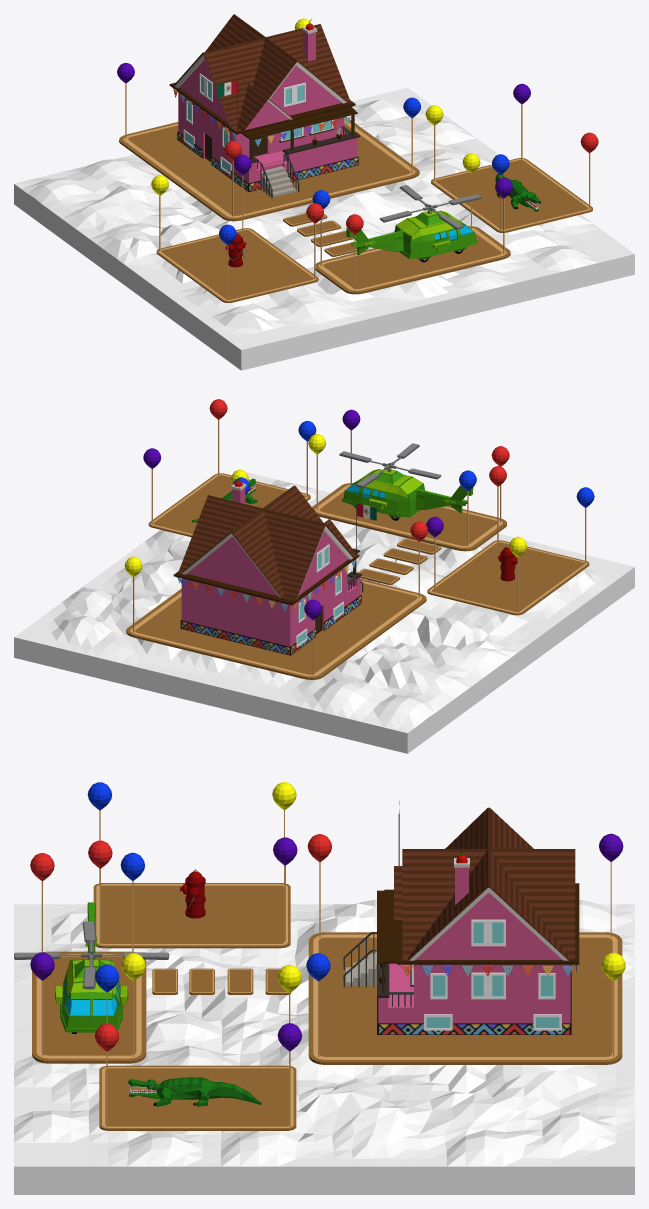
The picture shows the model from 3 angles, top to bottom: view 1: azimuth 30°, elevation 25°; view 2: azimuth 150°, elevation 25°; view 3: azimuth 270°, elevation 25°; orthographic projection. The views are drawn at different scales.
Parts seen in each view (by area): view 1: Cube.013, Cube.1005, VEHICLES_HELICOPTER, ANIMAL_COCODRILO; view 2: Cube.013, Cube.1005, VEHICLES_HELICOPTER, OBJRANDOM_FIRE_HYDRANT; view 3: Cube.013, Cube.1005, VEHICLES_HELICOPTER, ANIMAL_COCODRILO, OBJRANDOM_FIRE_HYDRANT.
Part boxes in pixels (x1,y1,x2,y2): Cube.013: [14, 18, 634, 370]; Cube.1005: [169, 14, 360, 198]; VEHICLES_HELICOPTER: [346, 185, 481, 262]; ANIMAL_COCODRILO: [495, 173, 540, 211]; Cube.013: [14, 399, 634, 753]; Cube.1005: [173, 476, 376, 655]; VEHICLES_HELICOPTER: [339, 443, 473, 520]; OBJRANDOM_FIRE_HYDRANT: [498, 545, 517, 581]; Cube.013: [14, 782, 634, 1194]; Cube.1005: [343, 801, 579, 1034]; VEHICLES_HELICOPTER: [14, 902, 169, 1033]; ANIMAL_COCODRILO: [128, 1077, 261, 1106]; OBJRANDOM_FIRE_HYDRANT: [180, 869, 205, 918].
Bounding box in the file's own units: 4000 × 1751 × 4001.
Materials: 72 (3 with a texture image).
